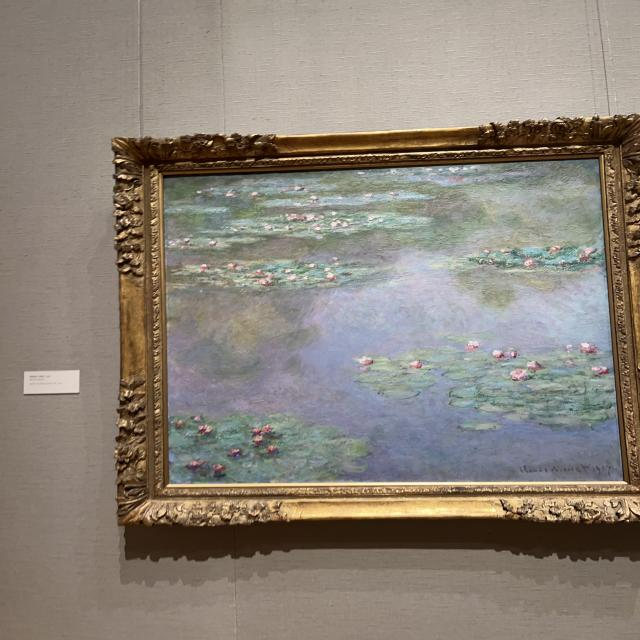lilies: (167, 162, 620, 479)
